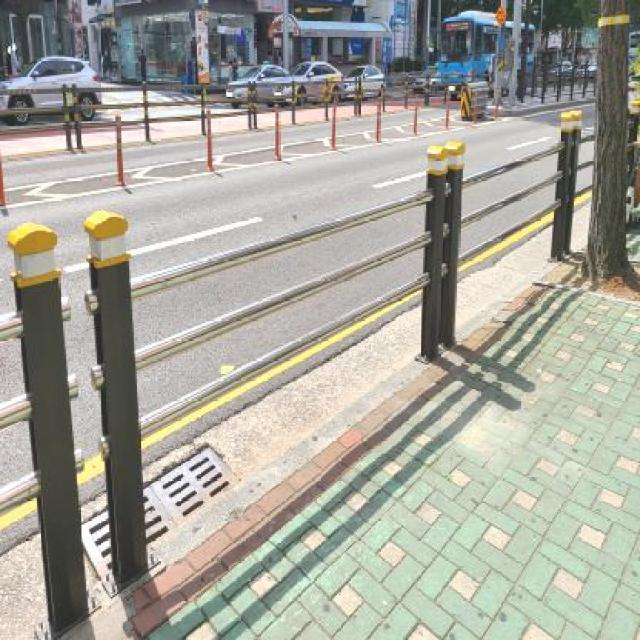fence: (6, 134, 500, 477)
